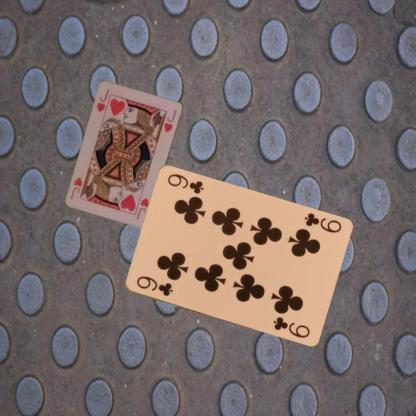9c: (301, 210, 343, 235), (133, 273, 174, 298)
Jh: (94, 87, 111, 113), (134, 196, 150, 222)
